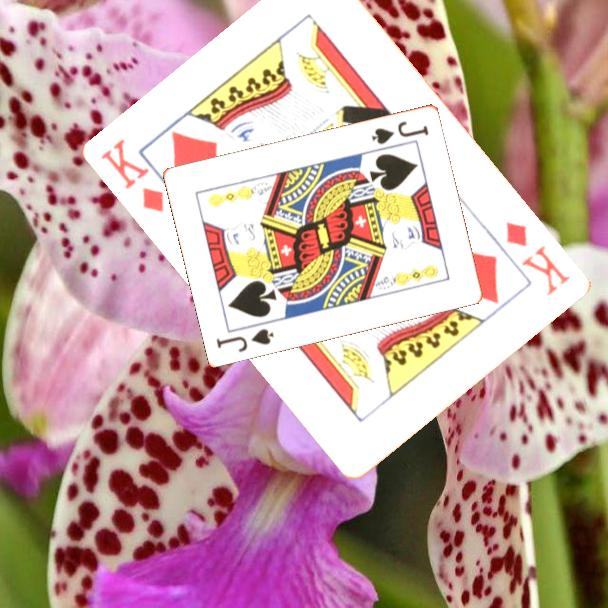d13: (502, 217, 575, 299), (97, 135, 168, 216)
s11: (368, 117, 432, 147), (213, 325, 277, 355)
